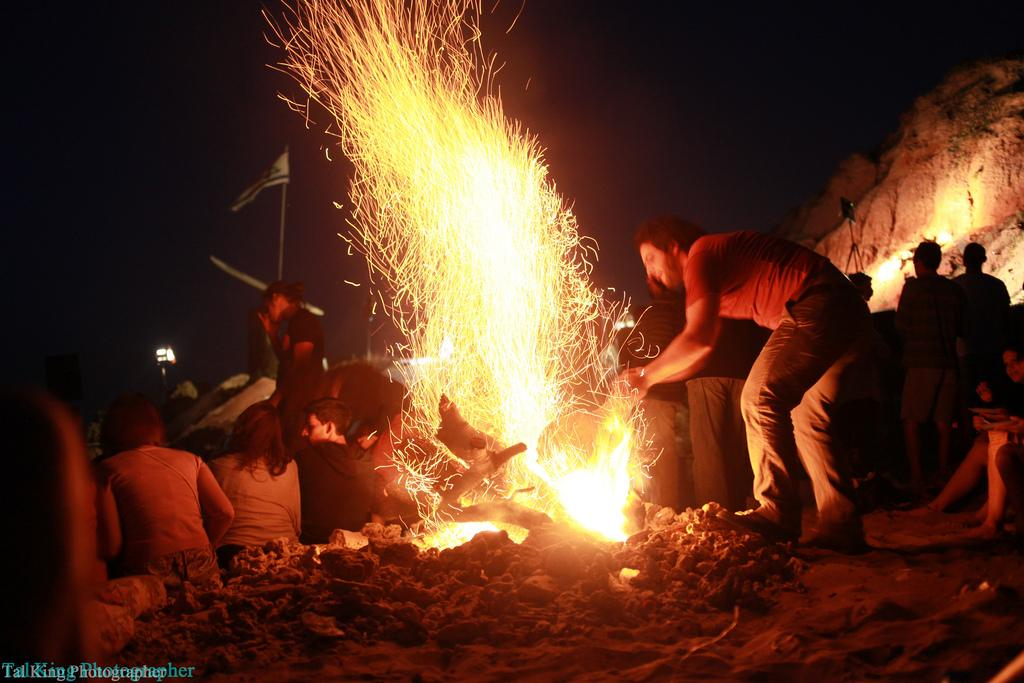fire: (432, 167, 555, 398), (562, 458, 640, 538)
